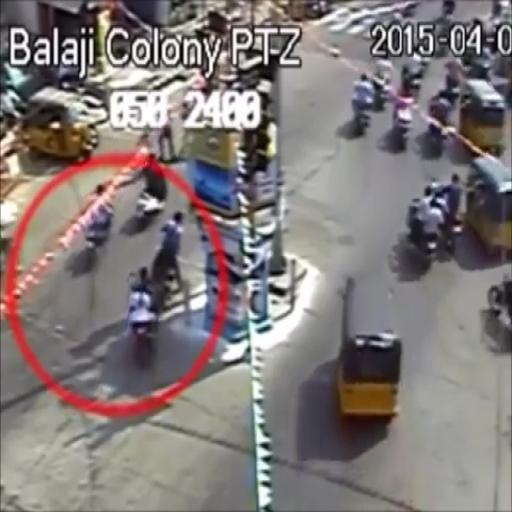小汽车: (342, 274, 404, 434), (26, 81, 92, 168), (459, 82, 507, 160)
自行车: (430, 167, 468, 246), (406, 188, 445, 261), (78, 181, 112, 263), (136, 150, 170, 228), (392, 86, 417, 146), (352, 70, 374, 134)
自行车撞自行车: (128, 212, 194, 364)
